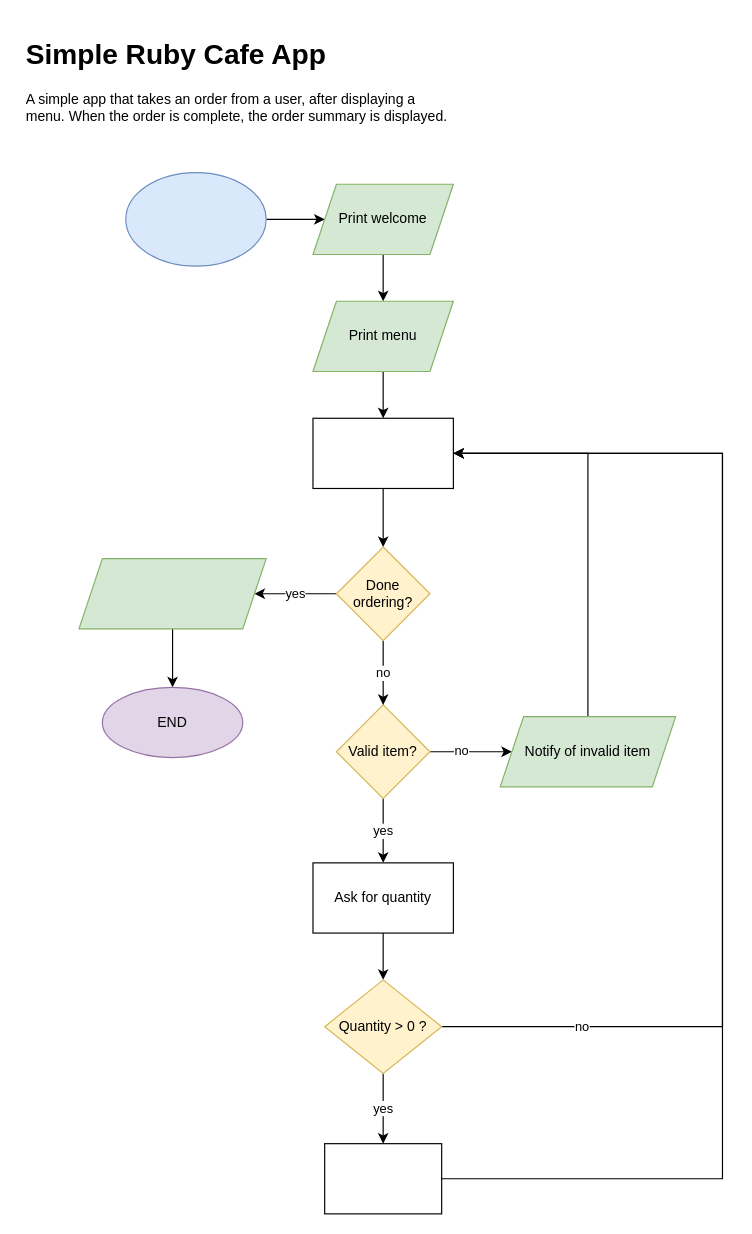
Some shapes in this 752 by 1234 pixel diagram are drawn without their labels. Here are the shapes that lost their labels. From the top down, the centre of each, then its label:
the point at 195,218: START
the point at 382,452: Ask for order item
the point at 172,593: Print order summary
the point at 383,1178: Add item with quantity to order
